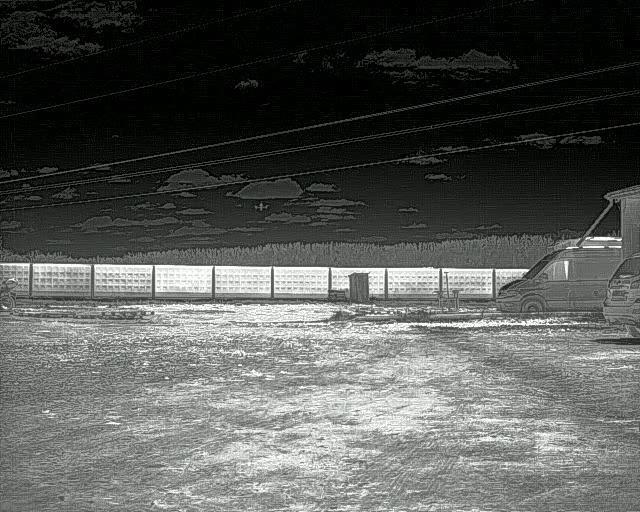drone-thermal: (253, 200, 271, 212)
